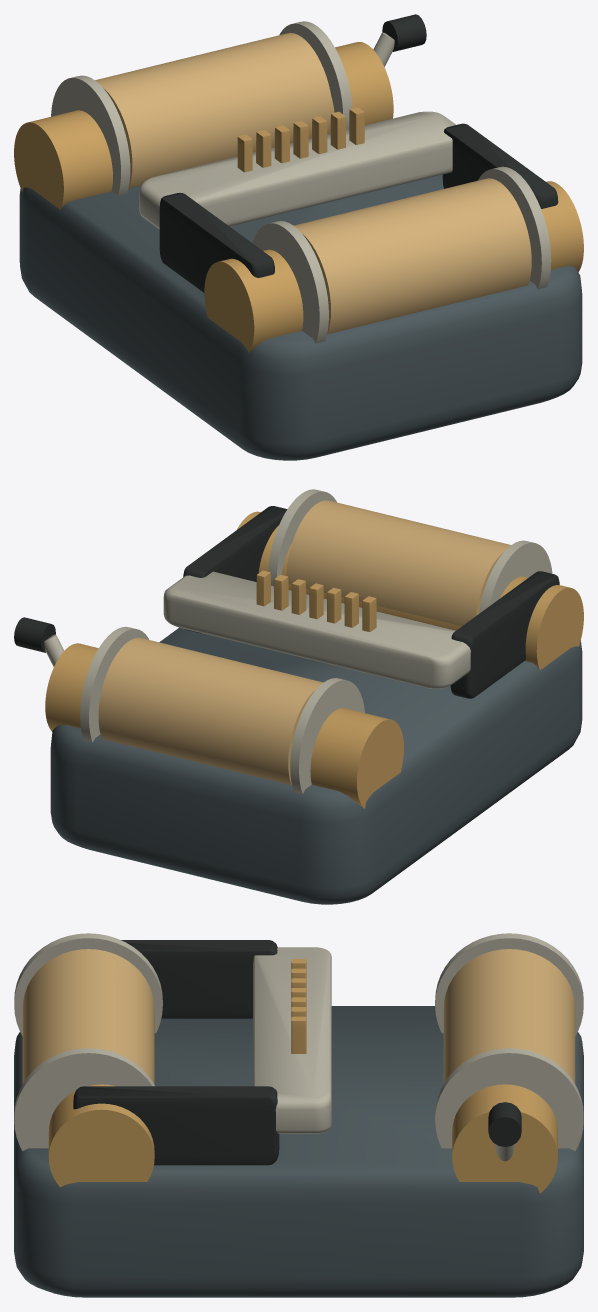
The model's file is Studio.glb.
The picture shows the model from 3 angles, top to bottom: view 1: azimuth 30°, elevation 25°; view 2: azimuth 150°, elevation 25°; view 3: azimuth 270°, elevation 25°; orthographic projection. The views are drawn at different scales.
Parts seen in each view (by area): view 1: Recorder casing, Wound paper (×2), Tape axle (×2), Reader throat, Feed reel lip (×4), Ribbon guard (×2), Crank grip; view 2: Recorder casing, Wound paper (×2), Reader throat, Tape axle (×2), Feed reel lip (×4), Ribbon guard (×2), Crank grip; view 3: Recorder casing, Wound paper (×2), Ribbon guard (×2), Feed reel lip (×4), Tape axle (×2), Reader throat, Crank grip, Reader spring.
Boxes of the visible parts, x1=… form: Recorder casing: x1=19, y1=174, x2=582, y2=460; Wound paper (×2): x1=95, y1=33, x2=531, y2=334; Tape axle (×2): x1=14, y1=42, x2=583, y2=352; Reader throat: x1=139, y1=111, x2=455, y2=228; Feed reel lip (×4): x1=51, y1=21, x2=551, y2=343; Ribbon guard (×2): x1=159, y1=123, x2=558, y2=292; Crank grip: x1=382, y1=14, x2=426, y2=51; Recorder casing: x1=50, y1=627, x2=582, y2=904; Wound paper (×2): x1=98, y1=500, x2=510, y2=784; Reader throat: x1=163, y1=571, x2=470, y2=688; Tape axle (×2): x1=45, y1=511, x2=583, y2=808; Feed reel lip (×4): x1=80, y1=489, x2=552, y2=793; Ribbon guard (×2): x1=183, y1=506, x2=559, y2=698; Crank grip: x1=14, y1=617, x2=55, y2=652; Recorder casing: x1=14, y1=1006, x2=583, y2=1297; Wound paper (×2): x1=22, y1=949, x2=575, y2=1083; Ribbon guard (×2): x1=73, y1=940, x2=279, y2=1165; Feed reel lip (×4): x1=14, y1=933, x2=583, y2=1150; Tape axle (×2): x1=48, y1=1016, x2=557, y2=1193; Reader throat: x1=253, y1=947, x2=331, y2=1133; Crank grip: x1=488, y1=1102, x2=521, y2=1146; Reader spring: x1=291, y1=1016, x2=306, y2=1053.
Size of the model in its own units: 1.07 by 0.5675 by 1.3.
